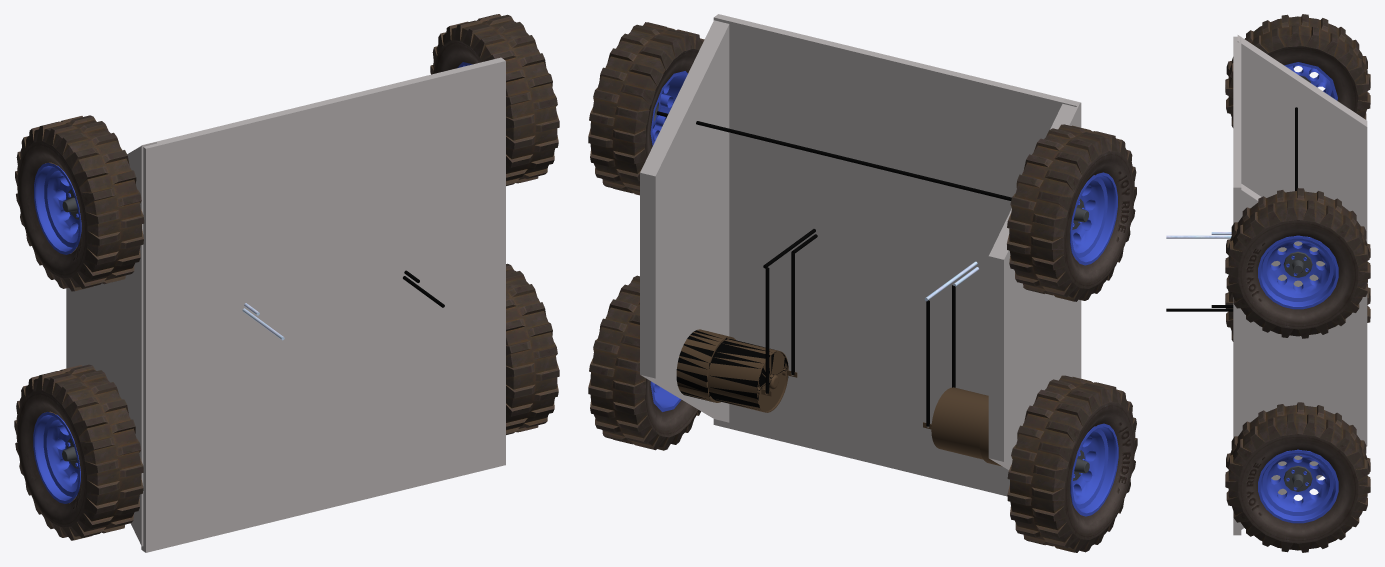
The model's file is robot_car.glb.
The picture shows the model from 3 angles, left to right: view 1: azimuth 30°, elevation 25°; view 2: azimuth 150°, elevation 25°; view 3: azimuth 270°, elevation 25°; orthographic projection. The views are drawn at different scales.
Parts seen in each view (by area): view 1: Object_4, Object_9, Object_6, Object_5; view 2: Object_4, Object_9, Object_8, Object_6, Object_5, Object_2, Object_7; view 3: Object_4, Object_9, Object_6, Object_5, Object_2, Object_3.
Part boxes in pixels (box(x1,y1,x2,y2)): Object_4: box(66, 57, 505, 552); Object_9: box(14, 14, 559, 540); Object_6: box(17, 40, 482, 527); Object_5: box(33, 62, 472, 503); Object_4: box(640, 14, 1081, 496); Object_9: box(588, 22, 1137, 552); Object_8: box(676, 329, 1002, 466); Object_6: box(645, 49, 1134, 539); Object_5: box(650, 71, 1118, 516); Object_2: box(763, 229, 817, 393); Object_7: box(926, 285, 955, 426); Object_4: box(1233, 35, 1367, 535); Object_9: box(1225, 14, 1370, 552); Object_6: box(1238, 46, 1358, 543); Object_5: box(1258, 62, 1338, 523); Object_2: box(1166, 305, 1233, 311); Object_3: box(1166, 232, 1231, 238).
Size of the model in its own units: 299 by 246 by 131.
7 materials, 4 textured.
